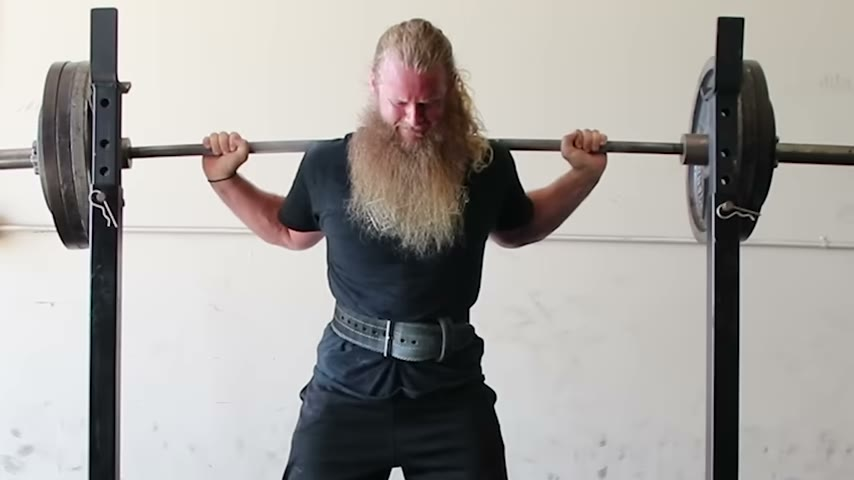barbell_plate_side: (122, 13, 240, 285), (695, 28, 779, 290)
